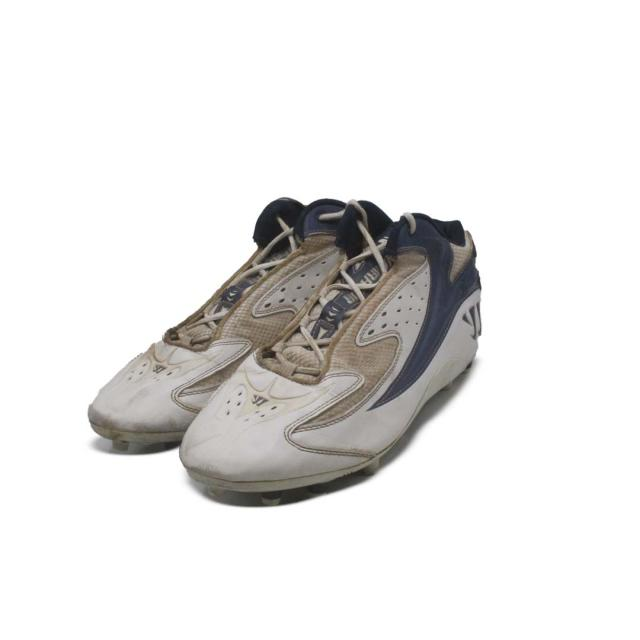uppersole: (178, 203, 473, 483), (87, 195, 344, 427)
